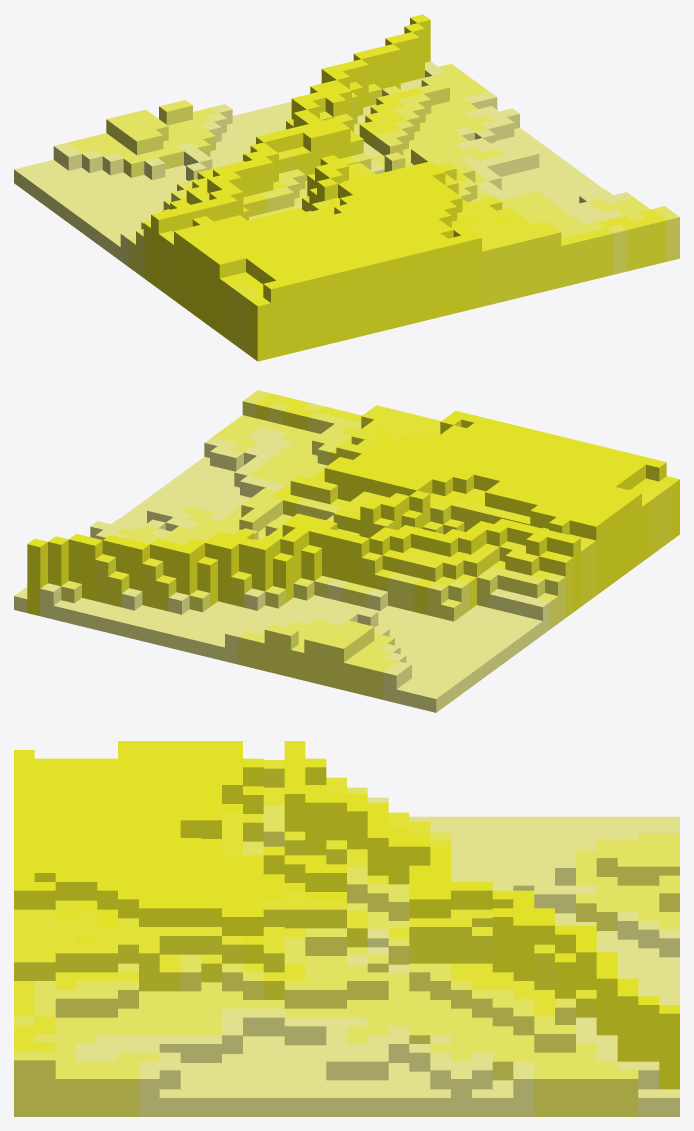
Rendered from Destert Map-18.obj.
3 renders of one model, top to bottom at view 1: azimuth 30°, elevation 25°; view 2: azimuth 150°, elevation 25°; view 3: azimuth 270°, elevation 25°, orthographic. The views are drawn at different scales.
Bounding box in the file's own units: 3.2 × 0.5 × 3.2.
1 material, 1 textured.
